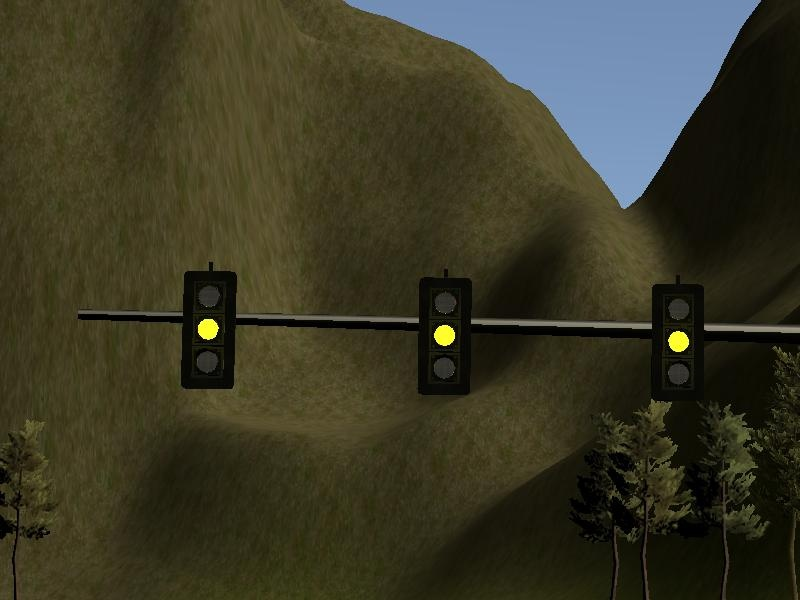YELLOW: (649, 279, 707, 402), (413, 277, 471, 400), (178, 267, 236, 390)
